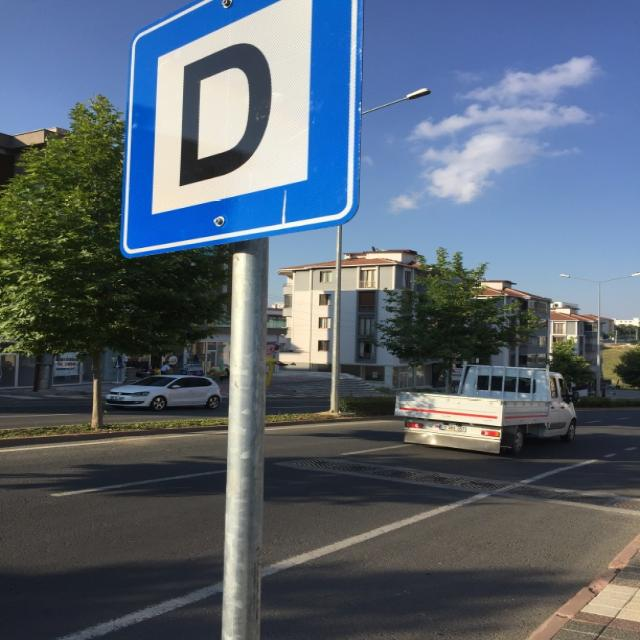durak: (119, 1, 360, 262)
